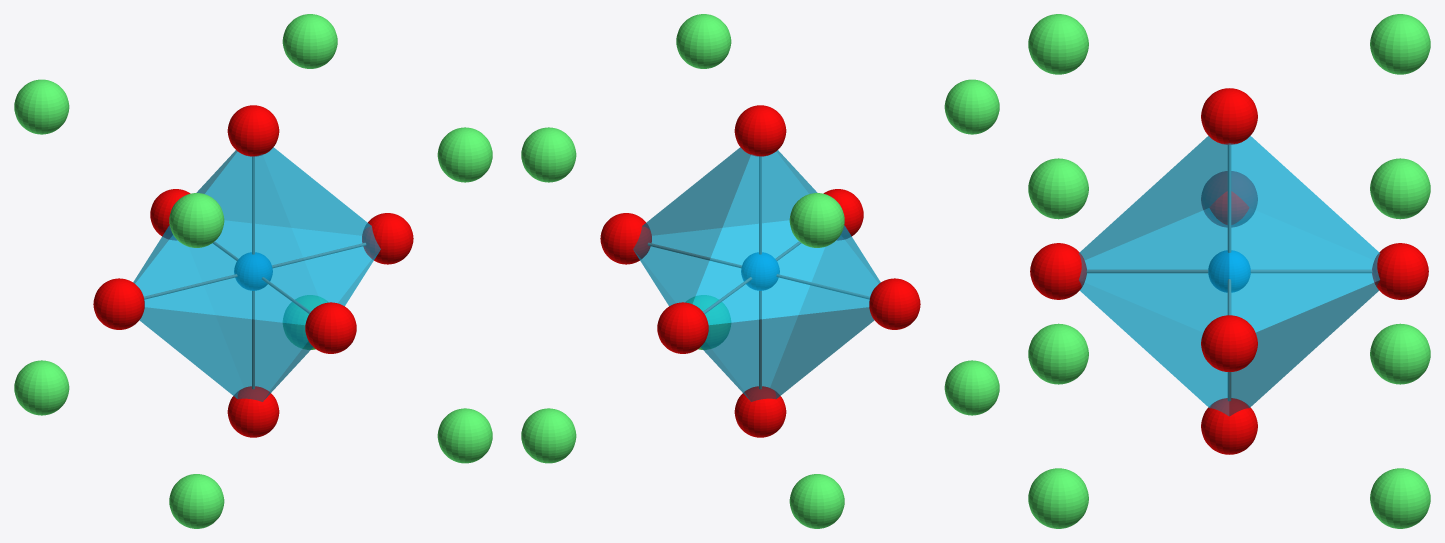
File: BaLiF3.fbx
3 views of the same model, side by side, from view 1: azimuth 30°, elevation 25°; view 2: azimuth 150°, elevation 25°; view 3: azimuth 270°, elevation 25° (orthographic). The views are drawn at different scales.
Visible parts, largest first — view 1: Shape_IndexedFaceSet.001, Shape_IndexedFaceSet.006, Shape_IndexedFaceSet.005, Shape_IndexedFaceSet.003, Shape_IndexedFaceSet.002, Shape_IndexedFaceSet.004, atom0_IndexedFaceSet, atom0_IndexedFaceSet.007, atom0_IndexedFaceSet.001, atom0_IndexedFaceSet.006, atom0_IndexedFaceSet.002, atom0_IndexedFaceSet.003 (+11 smaller); view 2: Shape_IndexedFaceSet, Shape_IndexedFaceSet.007, Shape_IndexedFaceSet.004, Shape_IndexedFaceSet.002, Shape_IndexedFaceSet.003, Shape_IndexedFaceSet.005, atom0_IndexedFaceSet.002, atom0_IndexedFaceSet.005, atom0_IndexedFaceSet.003, atom0_IndexedFaceSet.004, atom0_IndexedFaceSet, atom0_IndexedFaceSet.001 (+11 smaller); view 3: Shape_IndexedFaceSet.002, Shape_IndexedFaceSet.003, Shape_IndexedFaceSet.004, Shape_IndexedFaceSet.005, Shape_IndexedFaceSet, Shape_IndexedFaceSet.001, Shape_IndexedFaceSet.006, Shape_IndexedFaceSet.007, atom0_IndexedFaceSet, atom0_IndexedFaceSet.002, atom0_IndexedFaceSet.005, atom0_IndexedFaceSet.007 (+14 smaller).
Boxes of the visible parts, x1,y1,x2,y2 form: Shape_IndexedFaceSet.001: (135,152,320,325); Shape_IndexedFaceSet.006: (189,220,371,390); Shape_IndexedFaceSet.005: (139,307,312,401); Shape_IndexedFaceSet.003: (263,147,380,305); Shape_IndexedFaceSet.002: (197,148,370,235); Shape_IndexedFaceSet.004: (133,226,243,398); atom0_IndexedFaceSet: (14,79,69,134); atom0_IndexedFaceSet.007: (437,408,492,463); atom0_IndexedFaceSet.001: (14,360,69,415); atom0_IndexedFaceSet.006: (437,127,492,182); atom0_IndexedFaceSet.002: (169,193,224,247); atom0_IndexedFaceSet.003: (169,474,224,528); Shape_IndexedFaceSet: (693,152,878,325); Shape_IndexedFaceSet.007: (642,220,824,390); Shape_IndexedFaceSet.004: (701,307,874,401); Shape_IndexedFaceSet.002: (633,147,750,305); Shape_IndexedFaceSet.003: (643,148,816,235); Shape_IndexedFaceSet.005: (770,226,880,398); atom0_IndexedFaceSet.002: (944,79,999,134); atom0_IndexedFaceSet.005: (521,408,576,463); atom0_IndexedFaceSet.003: (944,360,999,415); atom0_IndexedFaceSet.004: (521,127,576,182); atom0_IndexedFaceSet: (789,193,844,247); atom0_IndexedFaceSet.001: (789,474,844,528); Shape_IndexedFaceSet.002: (1229,136,1379,332); Shape_IndexedFaceSet.003: (1079,136,1229,332); Shape_IndexedFaceSet.004: (1231,208,1378,407); Shape_IndexedFaceSet.005: (1080,208,1227,407); Shape_IndexedFaceSet: (1231,136,1378,259); Shape_IndexedFaceSet.001: (1080,136,1227,259); Shape_IndexedFaceSet.006: (1229,280,1379,416); Shape_IndexedFaceSet.007: (1079,280,1229,415); atom0_IndexedFaceSet: (1370,14,1430,74); atom0_IndexedFaceSet.002: (1028,14,1088,74); atom0_IndexedFaceSet.005: (1370,468,1430,528); atom0_IndexedFaceSet.007: (1028,468,1088,528).
Bounding box in the file's own units: 470 × 470 × 470.
